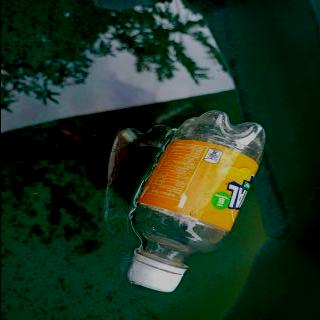bottle: (124, 109, 268, 294)
